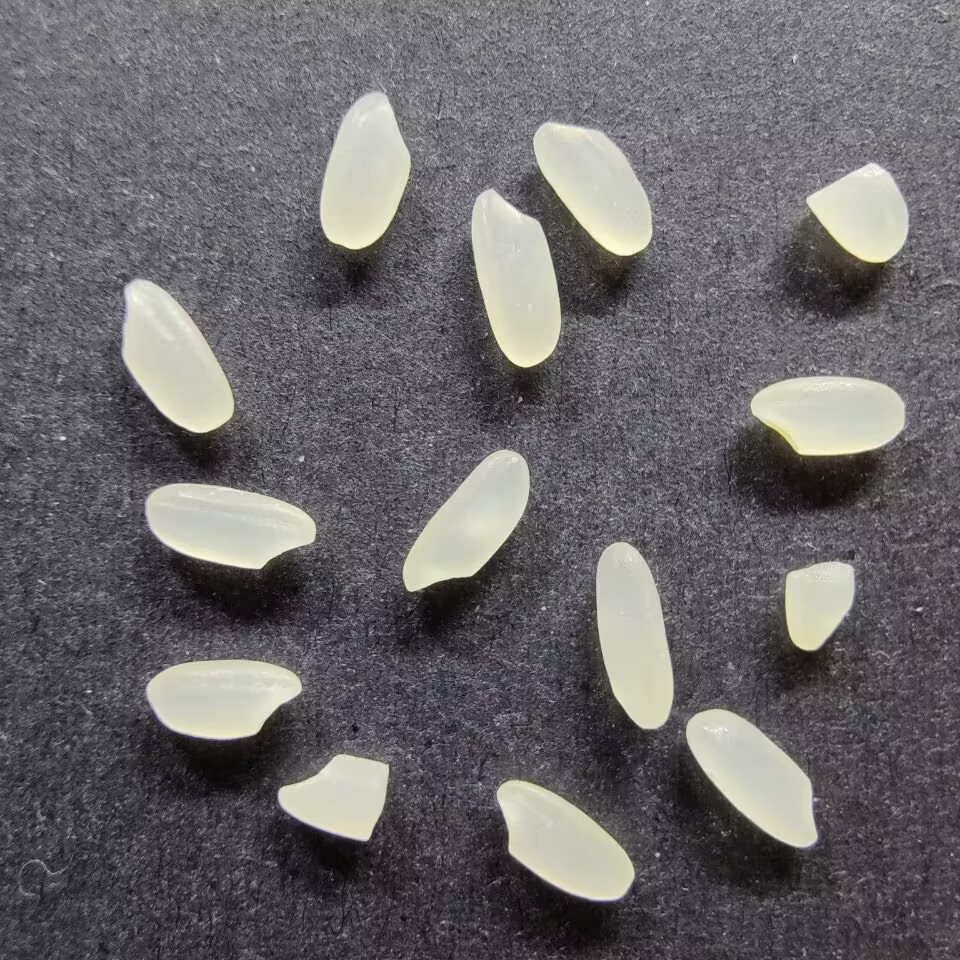broken: (804, 159, 911, 265), (275, 751, 392, 844), (781, 560, 857, 652)
rice: (399, 447, 532, 595), (112, 279, 236, 437), (686, 709, 819, 851), (495, 779, 636, 904), (469, 185, 563, 368), (531, 118, 653, 257), (594, 539, 676, 731), (142, 483, 314, 572), (318, 87, 412, 249), (144, 658, 302, 740), (748, 375, 907, 456)
